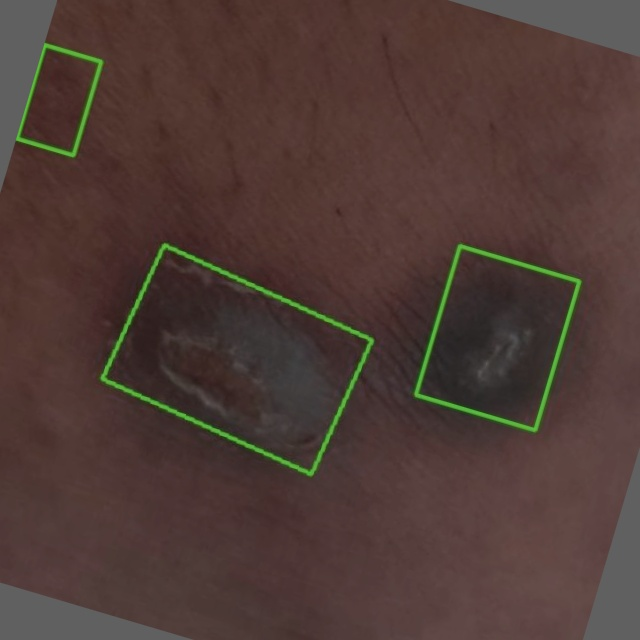Contact Dermatitis: (103, 245, 372, 475), (415, 245, 579, 430), (16, 44, 101, 155)
